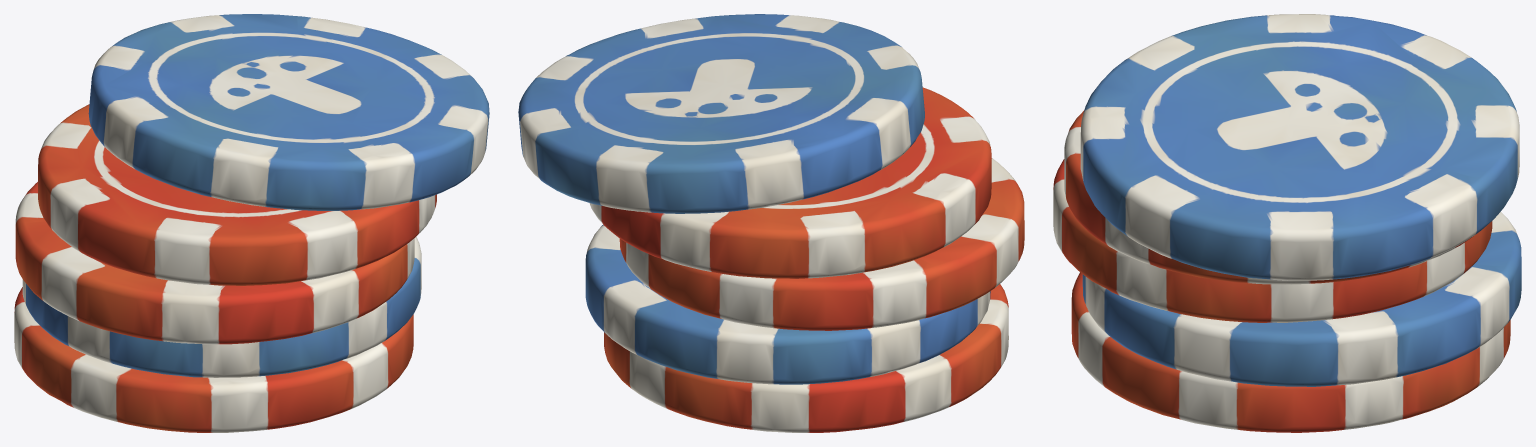
The model's file is poker-chip-stack.glb.
The picture shows the model from 3 angles, left to right: view 1: azimuth 30°, elevation 25°; view 2: azimuth 150°, elevation 25°; view 3: azimuth 270°, elevation 25°; orthographic projection. The views are drawn at different scales.
Parts seen in each view (by area): view 1: poker_chip_blue.1, poker_chip_red.2, poker_chip_red.1, poker_chip_red.0, poker_chip_blue.0; view 2: poker_chip_blue.1, poker_chip_red.2, poker_chip_blue.0, poker_chip_red.1, poker_chip_red.0; view 3: poker_chip_blue.1, poker_chip_blue.0, poker_chip_red.0, poker_chip_red.1, poker_chip_red.2.
Part boxes in pixels (bbox=[...]): poker_chip_blue.1: bbox=[88, 14, 489, 210]; poker_chip_red.2: bbox=[38, 104, 436, 285]; poker_chip_red.1: bbox=[15, 182, 414, 344]; poker_chip_red.0: bbox=[14, 287, 413, 432]; poker_chip_blue.0: bbox=[22, 237, 421, 377]; poker_chip_blue.1: bbox=[518, 14, 924, 213]; poker_chip_red.2: bbox=[589, 87, 991, 278]; poker_chip_blue.0: bbox=[585, 224, 990, 384]; poker_chip_red.1: bbox=[619, 158, 1024, 330]; poker_chip_red.0: bbox=[604, 284, 1008, 432]; poker_chip_blue.1: bbox=[1080, 14, 1519, 280]; poker_chip_blue.0: bbox=[1082, 212, 1521, 386]; poker_chip_red.0: bbox=[1071, 272, 1510, 432]; poker_chip_red.1: bbox=[1053, 159, 1492, 322]; poker_chip_red.2: bbox=[1064, 110, 1473, 284].
Bounding box in the file's own units: 3.01 × 1.71 × 2.56.
